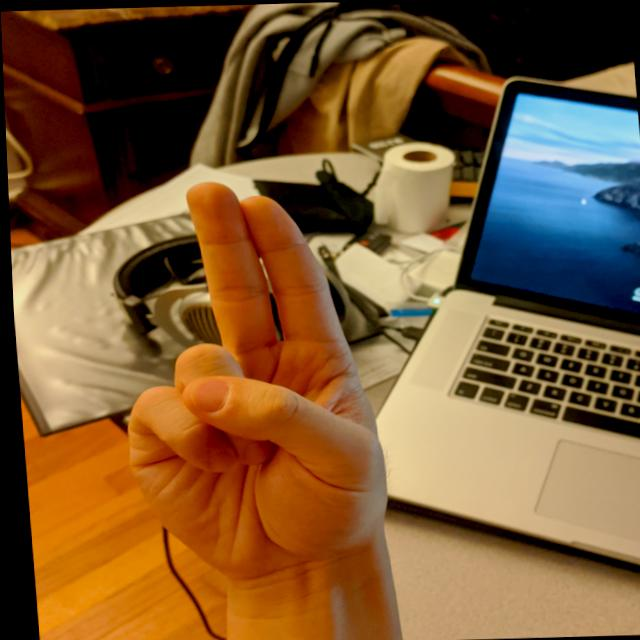U: (90, 166, 405, 591)
